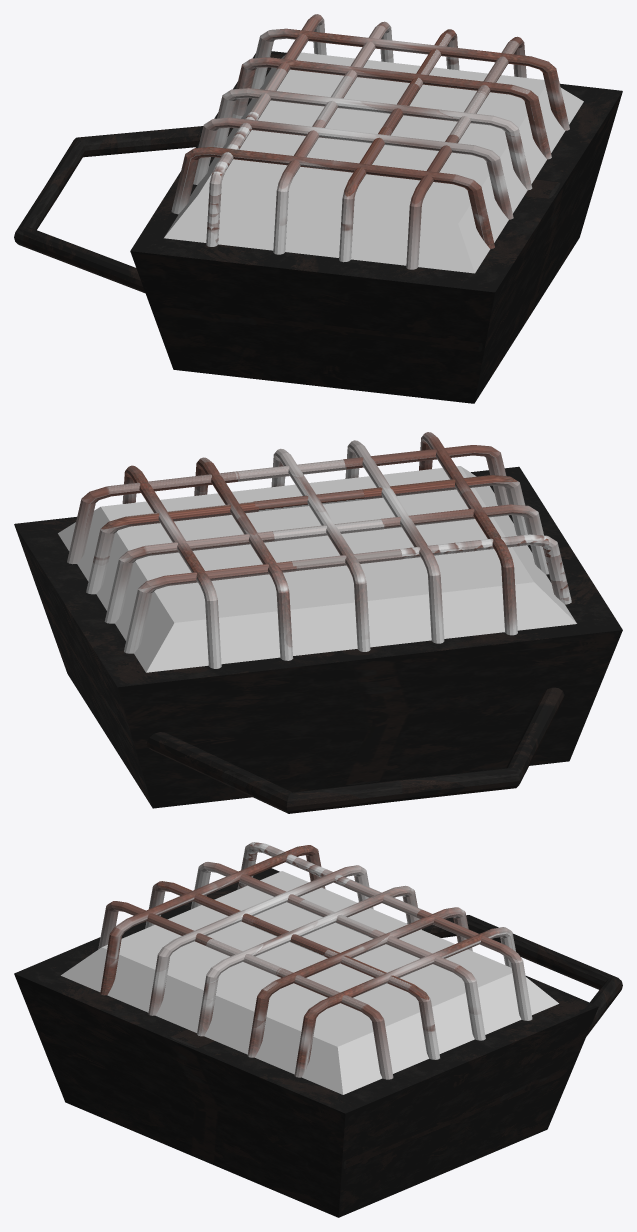
The model's file is Projector.FBX.
3 views of the same model, one above another, from view 1: azimuth 30°, elevation 25°; view 2: azimuth 150°, elevation 25°; view 3: azimuth 270°, elevation 25° (orthographic). The views are drawn at different scales.
Parts seen in each view (by area): view 1: Object007; view 2: Object007; view 3: Object007.
Part boxes in pixels (<box>): Object007: <box>14,14,622,403</box>; Object007: <box>14,432,622,813</box>; Object007: <box>14,842,622,1217</box>.
Bounding box in the file's own units: 39.8 × 14.05 × 40.71.
